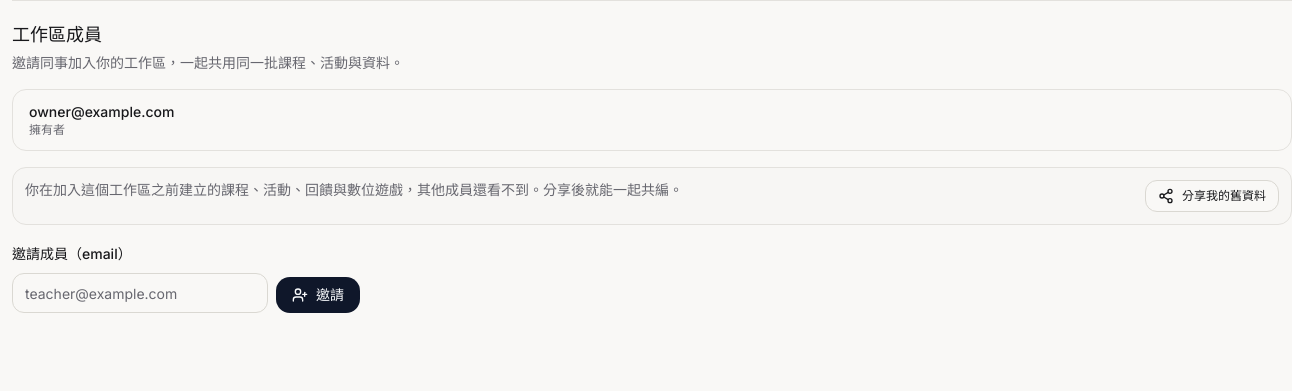
Scenario: TeamWorkspaceSection › invites an existing account by email
This screenshot has width=1292, height=391.
Type "new@example.com" into the field labelled "邀請成員（email）" at (140, 293), box [12, 273, 268, 313]
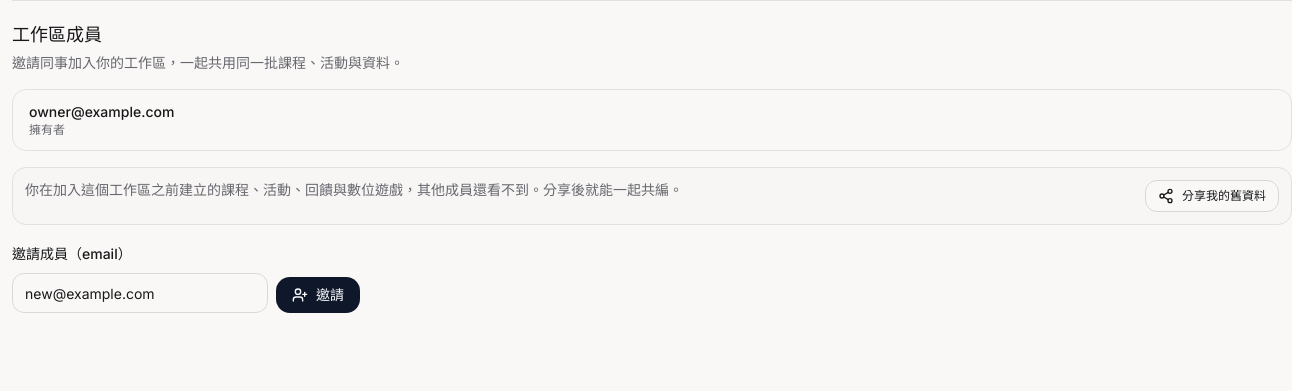
Click the button "邀請" at (318, 295), box [276, 277, 360, 313]
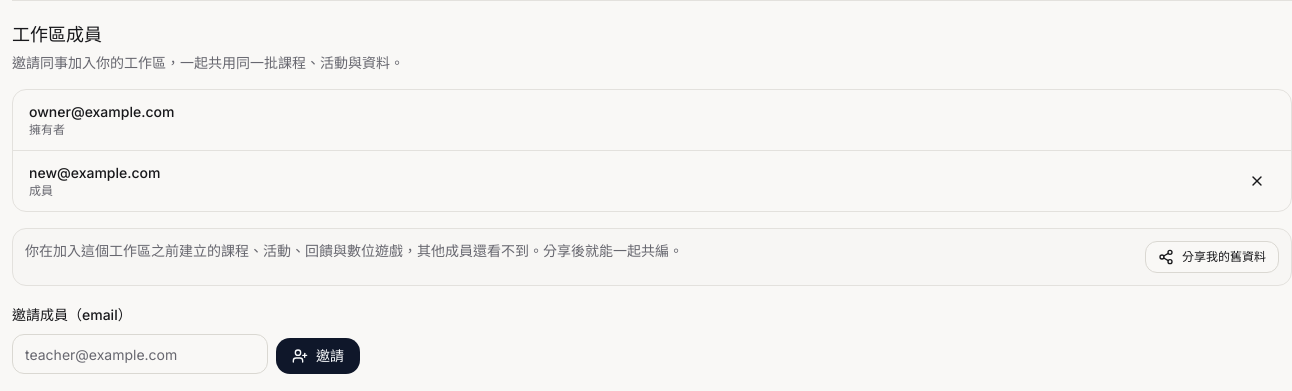
Now the text "new@example.com" is shown, box [29, 163, 160, 183]
